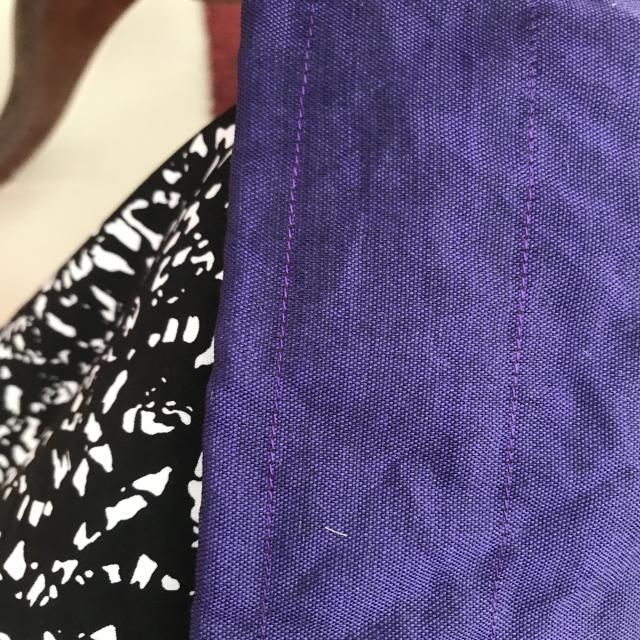good: (258, 443, 294, 576), (274, 172, 302, 305), (298, 20, 323, 132)
